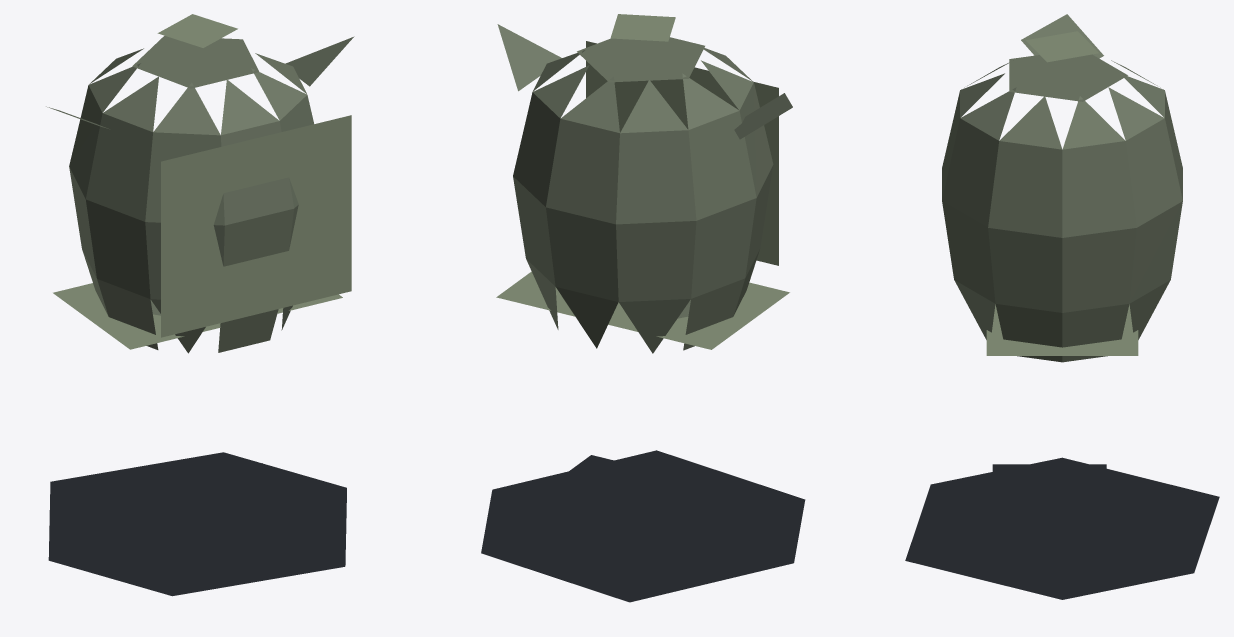
Rendered from plastoid-composite.lod.glb.
The picture shows the model from 3 angles, left to right: view 1: azimuth 30°, elevation 25°; view 2: azimuth 150°, elevation 25°; view 3: azimuth 270°, elevation 25°; orthographic projection. The views are drawn at different scales.
Visible parts, largest first — view 1: m; view 2: m; view 3: m.
Boxes of the visible parts, bbox=[...] form: m: bbox=[46, 14, 354, 596]; m: bbox=[481, 14, 805, 602]; m: bbox=[905, 14, 1219, 599].
Bounding box in the file's own units: 0.3318 × 0.4248 × 0.2398.
